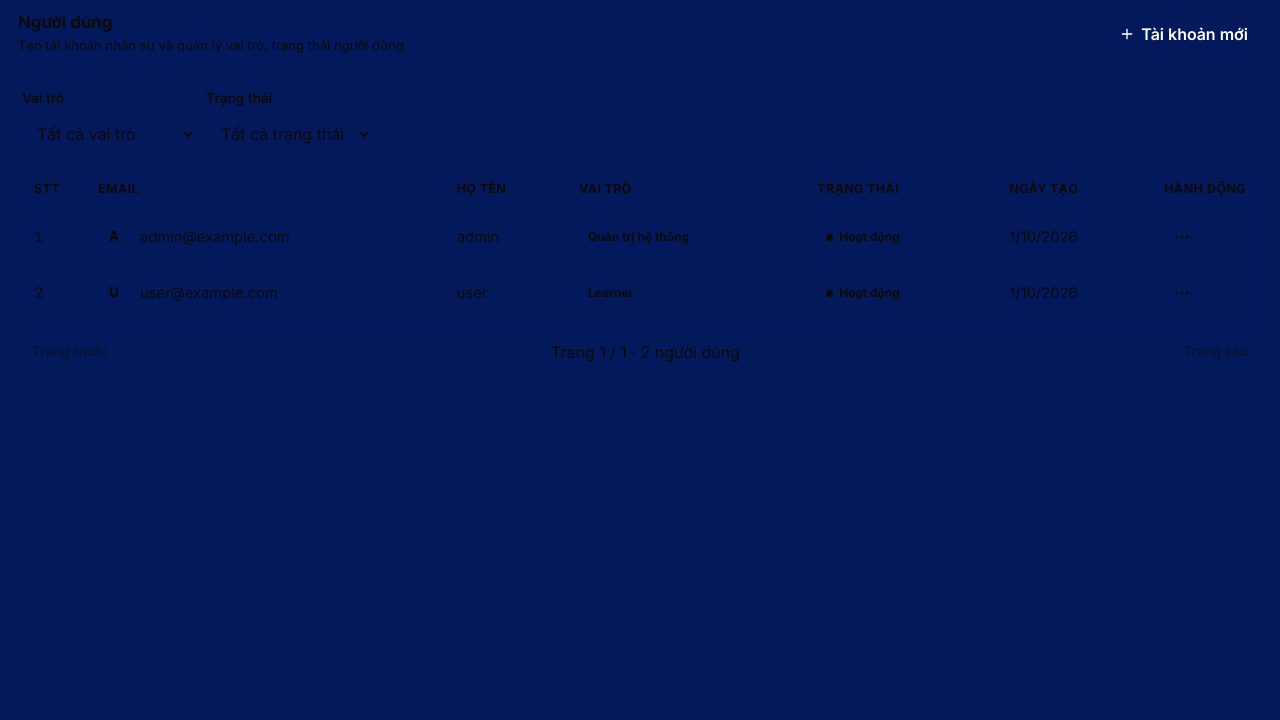
it: UsersPage › shows a user in a centred modal and moves to the edit form from it
This screenshot has width=1280, height=720.
Click the button named "Hành động của user@example.com". click: (1182, 293)
box: x1=1164 y1=275 x2=1200 y2=311
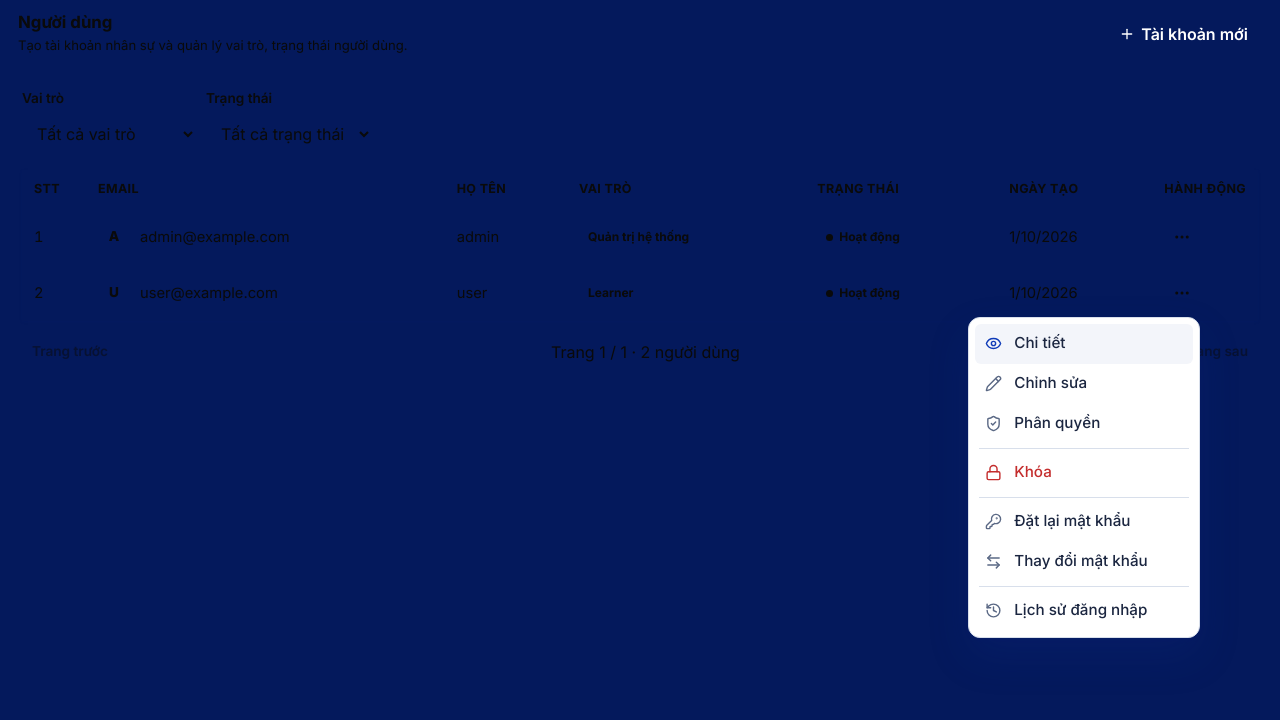
Click the menu item "Chi tiết". click: (1084, 344)
box: x1=975 y1=324 x2=1193 y2=364
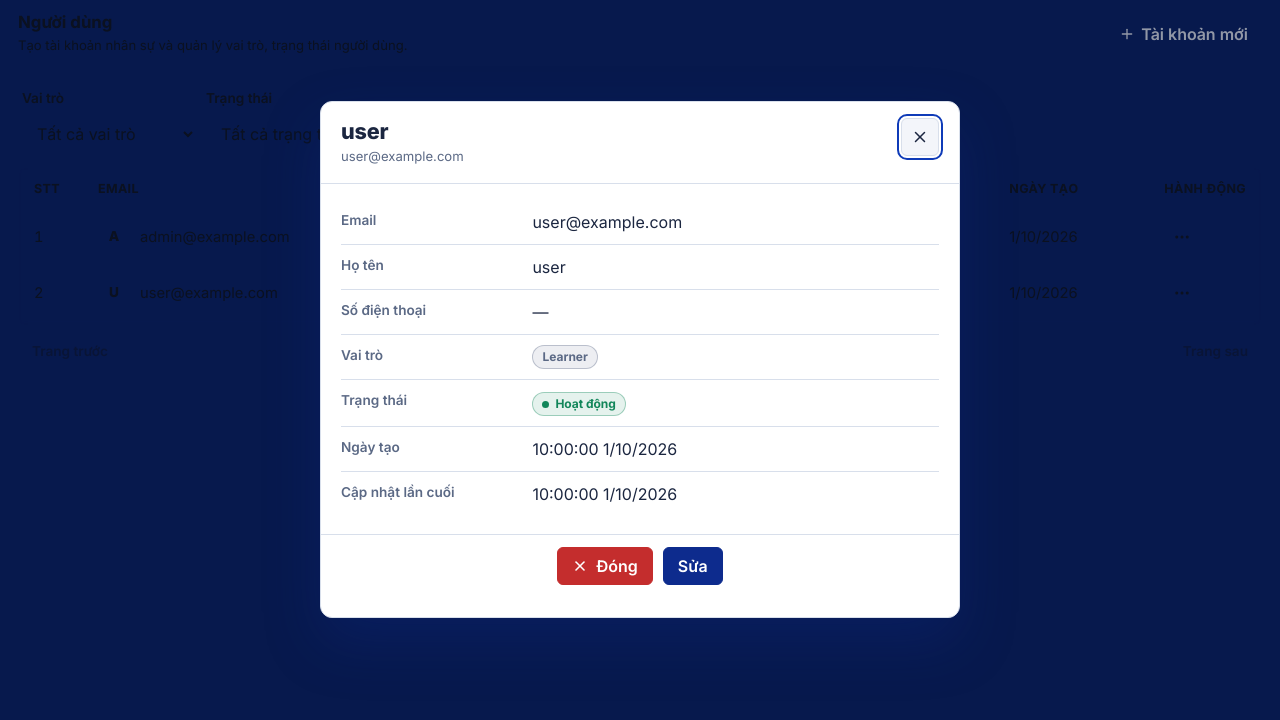
Expected: the dialog "user" shows "user@example.com", x1=341 y1=148 x2=464 y2=164
Expected: the dialog "user" shows "Learner", x1=542 y1=349 x2=588 y2=364
Click the button "Sửa". click: (693, 567)
box: x1=663 y1=548 x2=723 y2=586
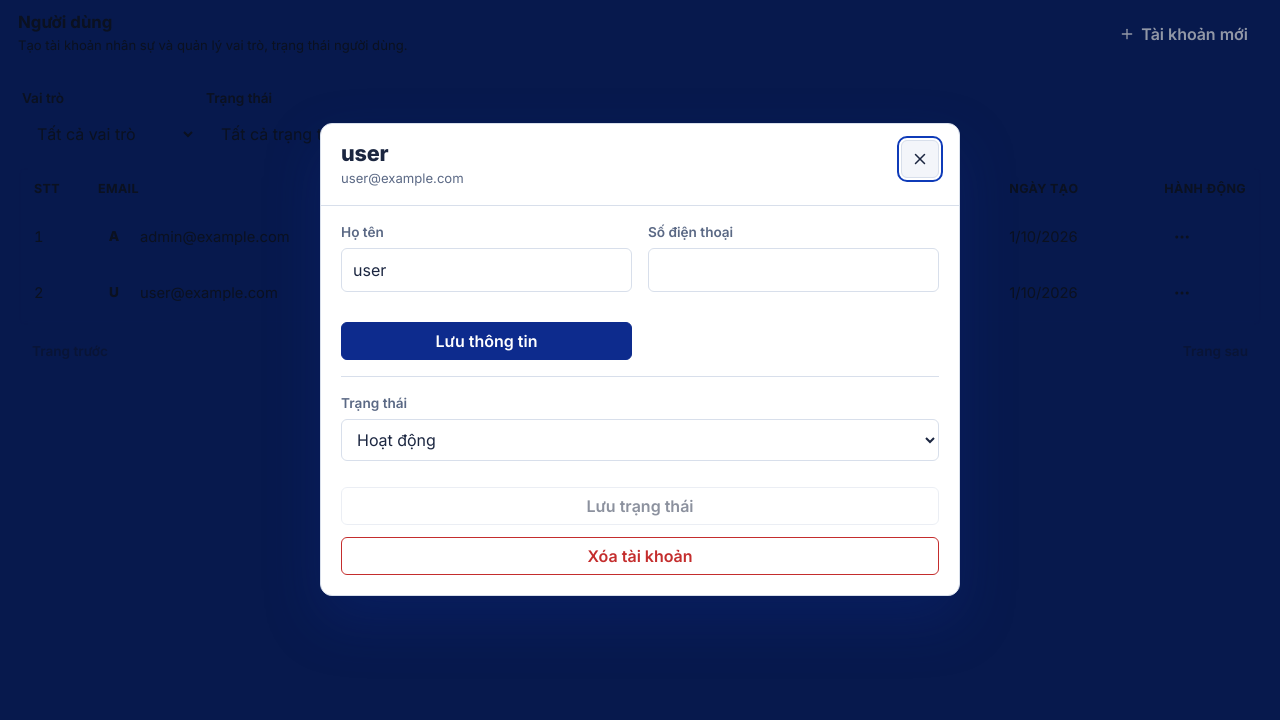
Expected: the element named "Quản lý user@example.com" is shown, x1=341 y1=222 x2=939 y2=576
